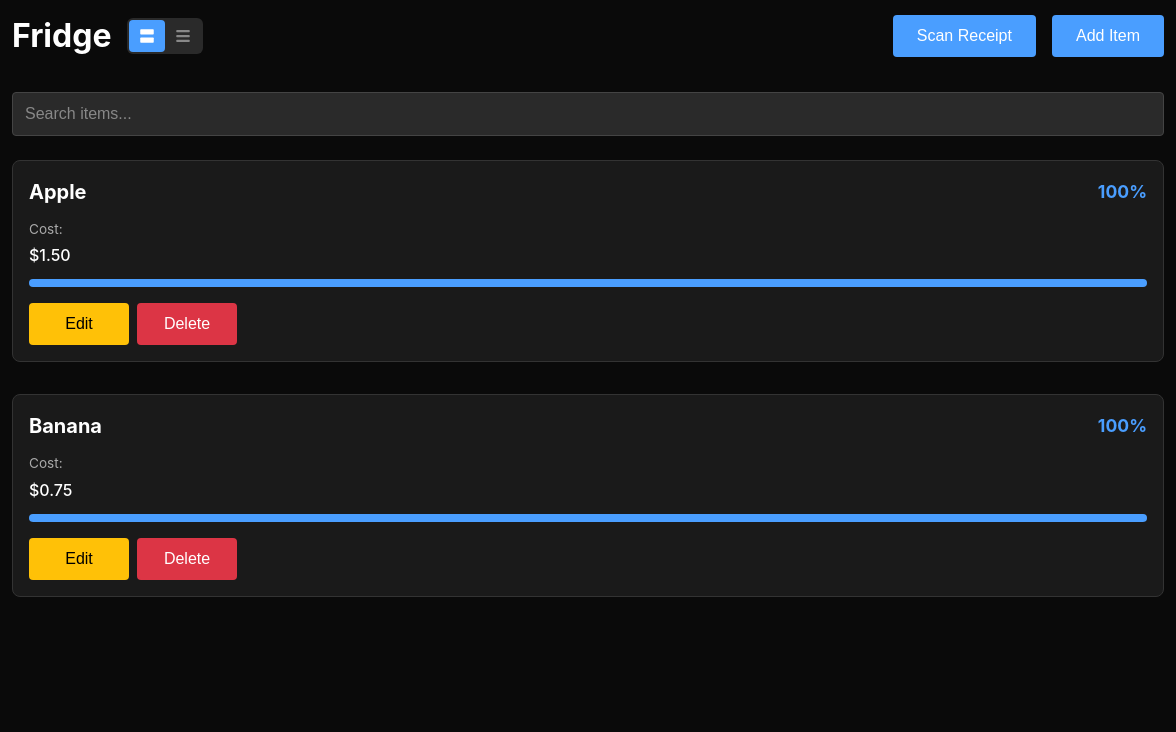
Fridge › should filter items when typing in search
Expected: the heading "Apple" is shown, [29,177,86,207]
Expected: the heading "Banana" is shown, [29,411,102,441]
Type "Apple" into the field with placeholder "Search items...".
click(588, 114); type("Apple")  # box [12,92,1164,136]
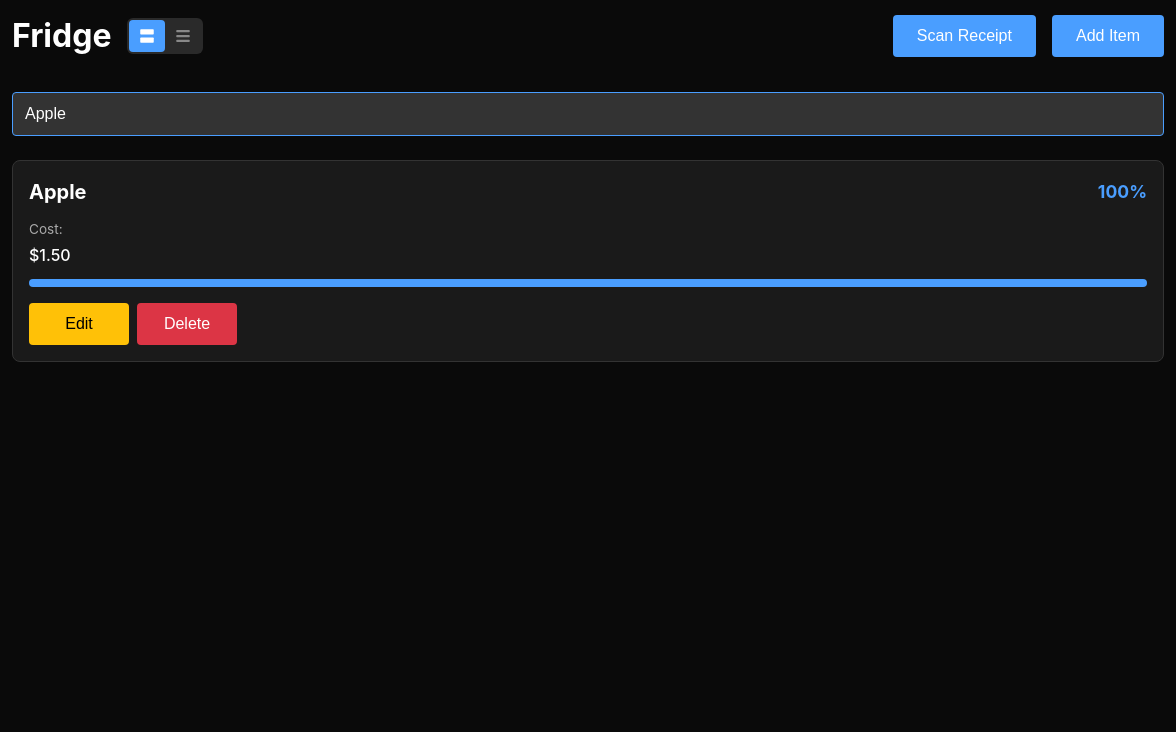
Expected: the heading "Apple" is shown, [29,177,86,207]
Now the heading "Banana" is gone
